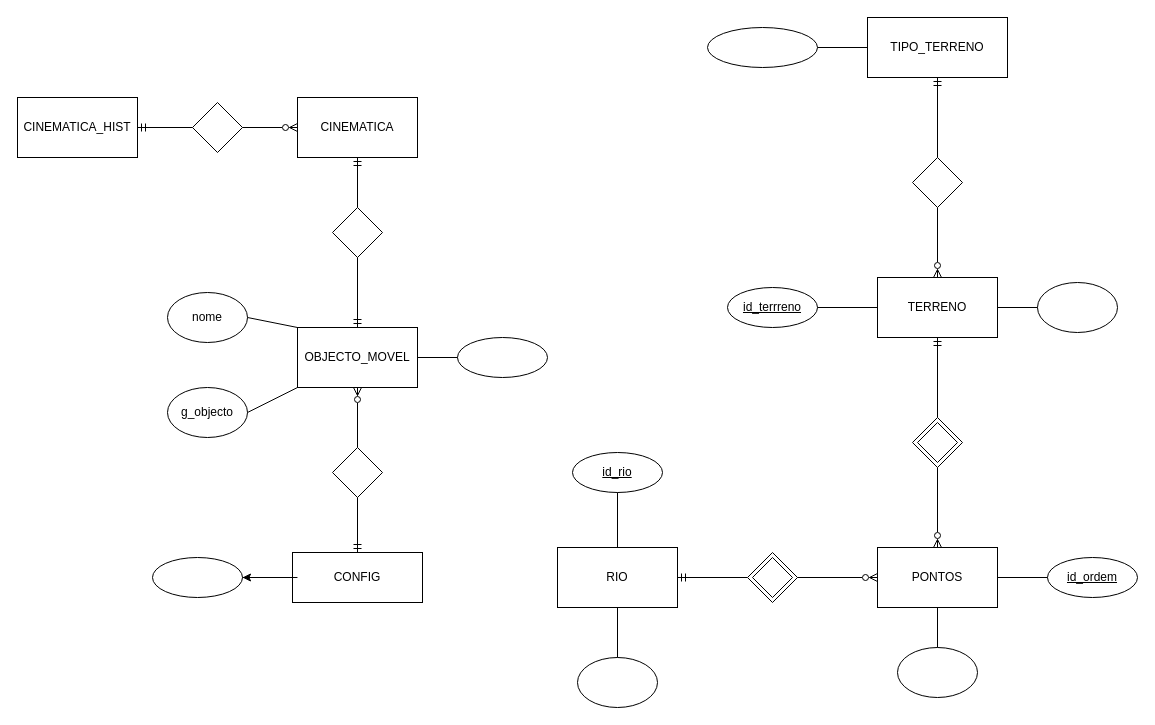
This 1155x725 diagram has some shape labels left out. Each missing label, with the centre of its shape:
"g_ponto" belongs at point 937,672.
"g_rio" belongs at point 617,682.
"g_terreno" belongs at point 1077,307.
"id_config" belongs at point 197,577.
"id_objecto" belongs at point 502,357.
"id_tipo_terrreno" belongs at point 762,47.
